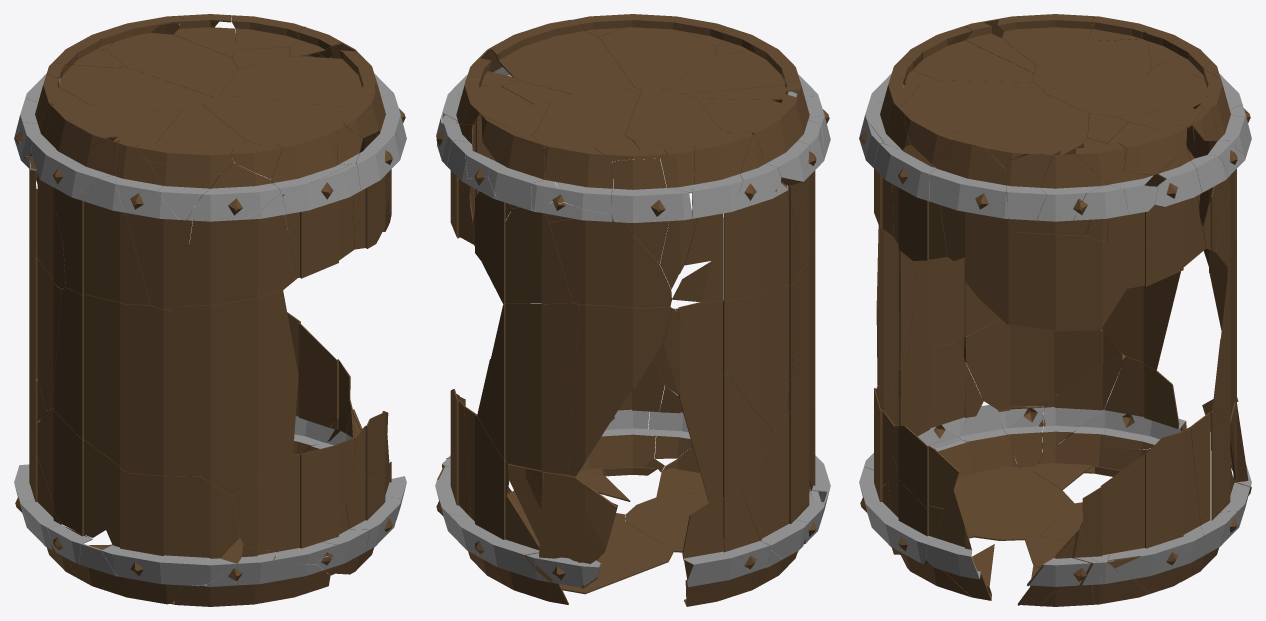
File: barrel-pieces.fbx
3 renders of one model, left to right at view 1: azimuth 30°, elevation 25°; view 2: azimuth 150°, elevation 25°; view 3: azimuth 270°, elevation 25°, orthographic.
Visible parts, largest first — view 1: barrel_cell.080, barrel_cell.086, barrel_cell.095, barrel_cell.079, barrel_cell.093, barrel_cell.082, barrel_cell.099, barrel_cell.057, barrel_cell.031, barrel_cell.054, barrel_cell.040, barrel_cell.061 (+40 smaller); view 2: barrel_cell.043, barrel_cell.026, barrel_cell.091, barrel_cell.076, barrel_cell.046, barrel_cell.100, barrel_cell.040, barrel_cell.024, barrel_cell.053, barrel_cell.070, barrel_cell.033, barrel_cell.009 (+52 smaller); view 3: barrel_cell.037, barrel_cell.008, barrel_cell.054, barrel_cell.088, barrel_cell.080, barrel_cell.059, barrel_cell.040, barrel_cell.086, barrel_cell.039, barrel_cell.033, barrel_cell.029, barrel_cell.038 (+55 smaller).
Boxes of the visible parts, x1,y1,x2,y2 form: barrel_cell.080: (101,473,239,585); barrel_cell.086: (53,350,199,476); barrel_cell.095: (233,437,355,564); barrel_cell.079: (184,376,298,495); barrel_cell.093: (171,290,298,387); barrel_cell.082: (180,178,297,306); barrel_cell.099: (57,287,183,384); barrel_cell.057: (63,173,150,305); barrel_cell.031: (115,143,192,310); barrel_cell.054: (32,409,129,537); barrel_cell.040: (219,50,375,106); barrel_cell.061: (282,163,360,278); barrel_cell.043: (507,464,617,588); barrel_cell.026: (477,359,573,474); barrel_cell.091: (549,219,671,308); barrel_cell.076: (672,181,798,302); barrel_cell.046: (677,377,774,502); barrel_cell.100: (675,282,795,377); barrel_cell.040: (491,19,634,93); barrel_cell.024: (574,304,671,389); barrel_cell.053: (481,207,572,304); barrel_cell.070: (491,302,579,385); barrel_cell.033: (682,490,770,587); barrel_cell.009: (599,15,716,89); barrel_cell.037: (1082,427,1204,593); barrel_cell.008: (965,232,1126,331); barrel_cell.054: (957,318,1121,410); barrel_cell.088: (929,140,1008,261); barrel_cell.080: (889,342,983,448); barrel_cell.059: (954,469,1074,540); barrel_cell.040: (953,93,1088,167); barrel_cell.086: (908,257,1000,359); barrel_cell.039: (1109,205,1205,288); barrel_cell.033: (1103,356,1186,449); barrel_cell.029: (1044,69,1222,116); barrel_cell.038: (873,143,947,260).
Bounding box in the file's own units: 268 × 341 × 268.
